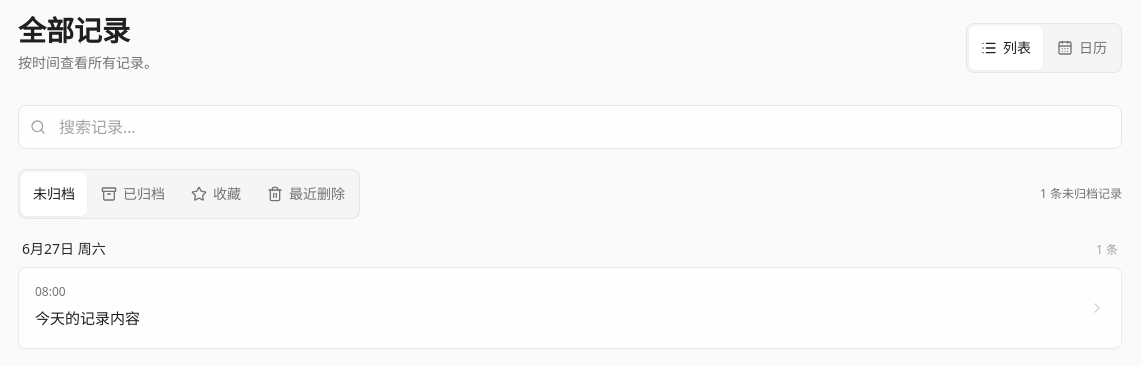
Test: TimelinePage › debounces a server-side search
Expected: the text "今天的记录内容" is shown, [35, 308, 140, 328]
Type "命中" into the search field with placeholder "搜索记录…". click: (570, 127)
box: [18, 105, 1122, 149]
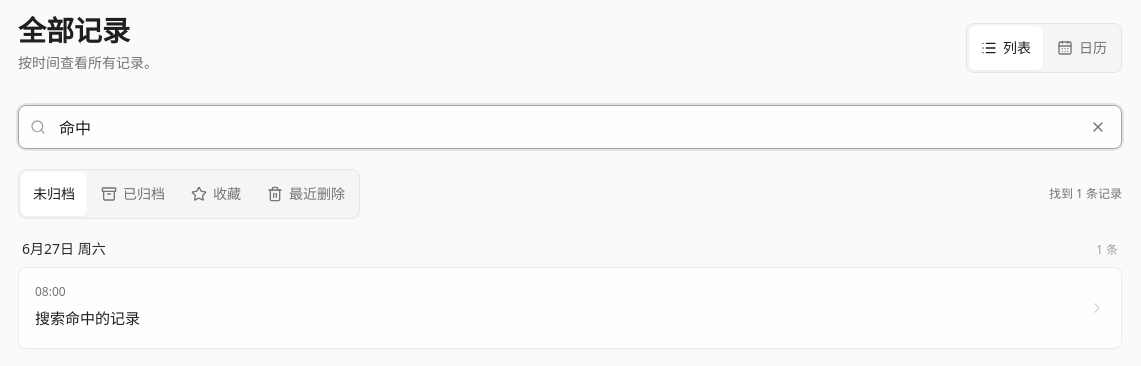
Now the text "搜索命中的记录" is shown, box [35, 308, 140, 328]
